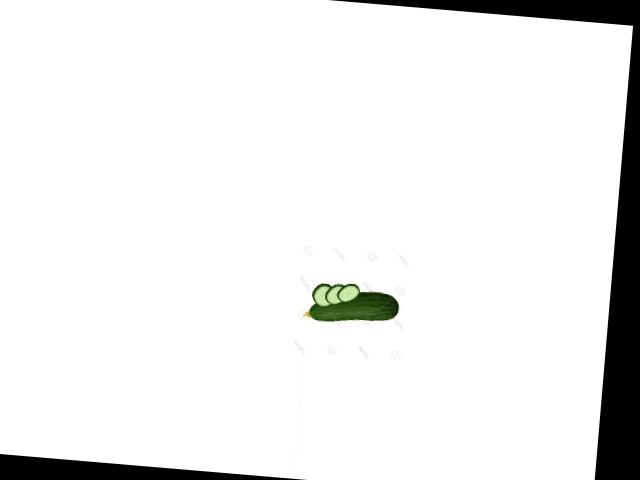cucumber: (303, 286, 401, 326)
